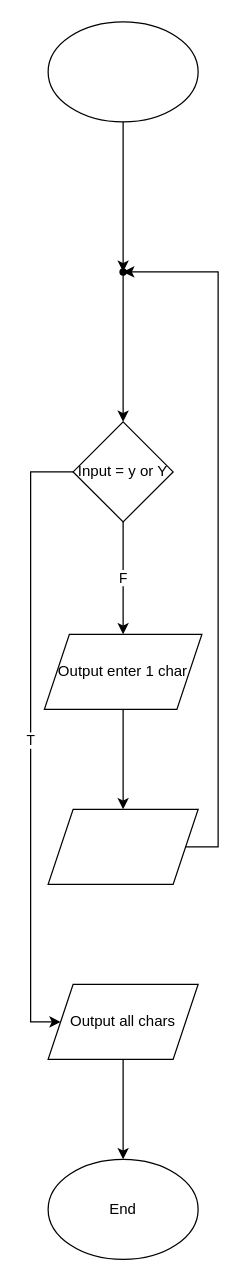
The diagram is 250 pixels wide and 1281 high, and some of its shapes have lost their labels. Here are the shapes that lost their labels. From the top down, the box of each, then its label:
(47, 21, 198, 122): Start
(47, 808, 198, 884): Input char
